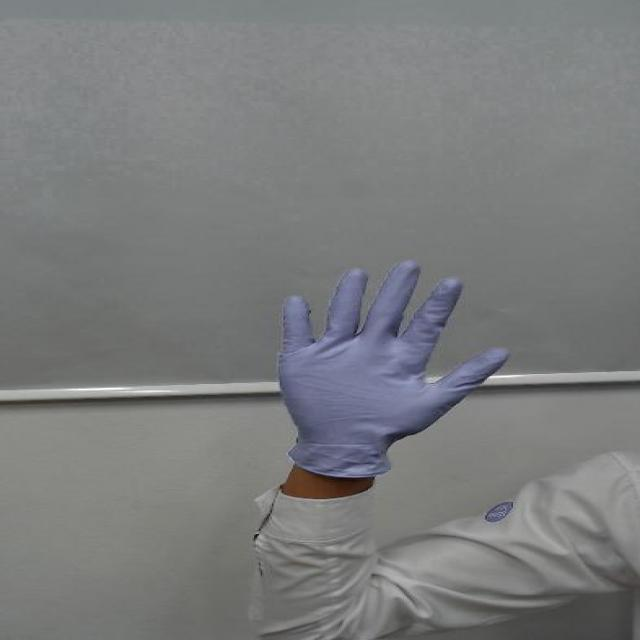Glove: (230, 245, 518, 470)
